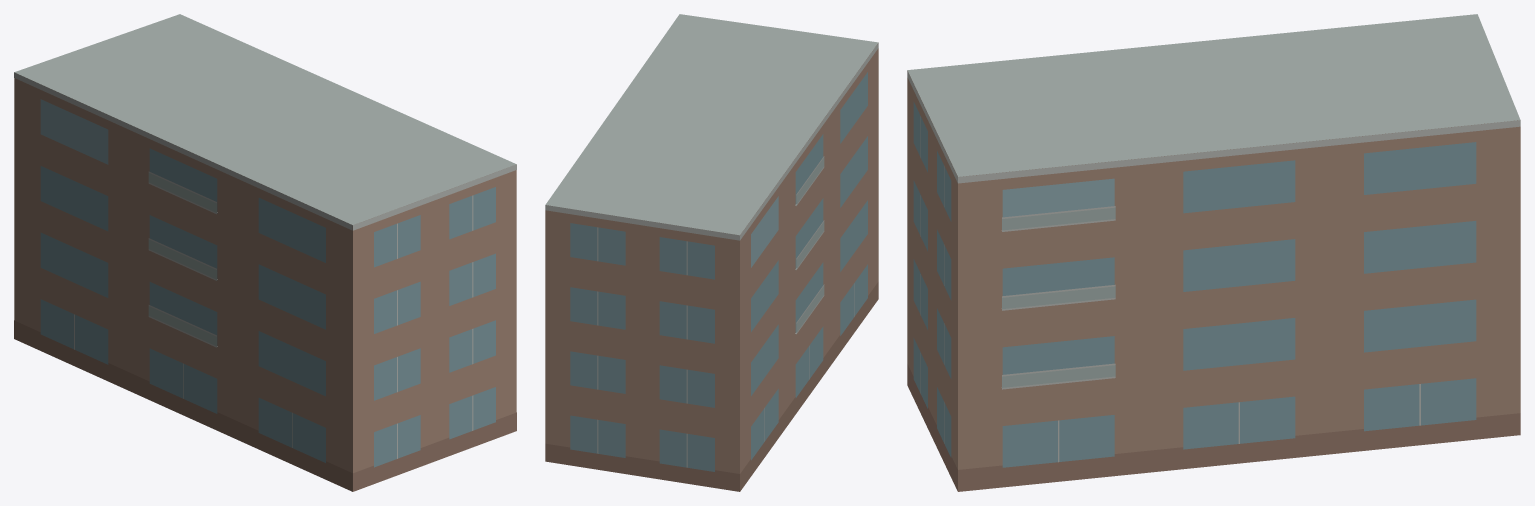
Rendered from survey-upis-33041890.glb.
3 views of the same model, side by side, from view 1: azimuth 30°, elevation 25°; view 2: azimuth 150°, elevation 25°; view 3: azimuth 270°, elevation 25° (orthographic). The views are drawn at different scales.
Visible parts, largest first — view 1: survey-upis-33041890.tmp; view 2: survey-upis-33041890.tmp; view 3: survey-upis-33041890.tmp.
Boxes of the visible parts, x1,y1,x2,y2 form: survey-upis-33041890.tmp: [14, 14, 516, 491]; survey-upis-33041890.tmp: [545, 14, 878, 491]; survey-upis-33041890.tmp: [907, 14, 1520, 491].
Bounding box in the file's own units: 12.99 × 11.7 × 20.66.
